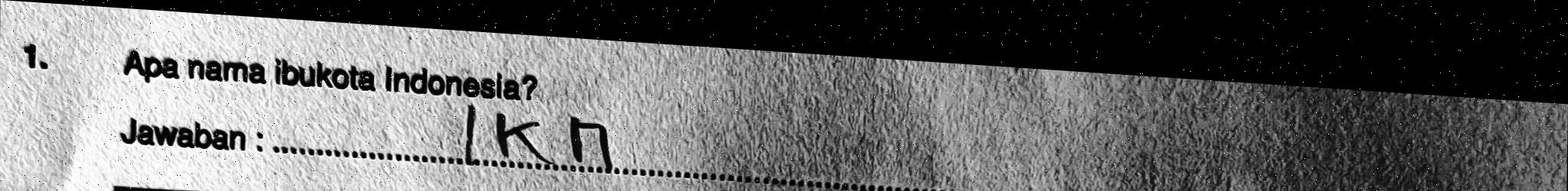jawaban: (452, 97, 619, 178)
